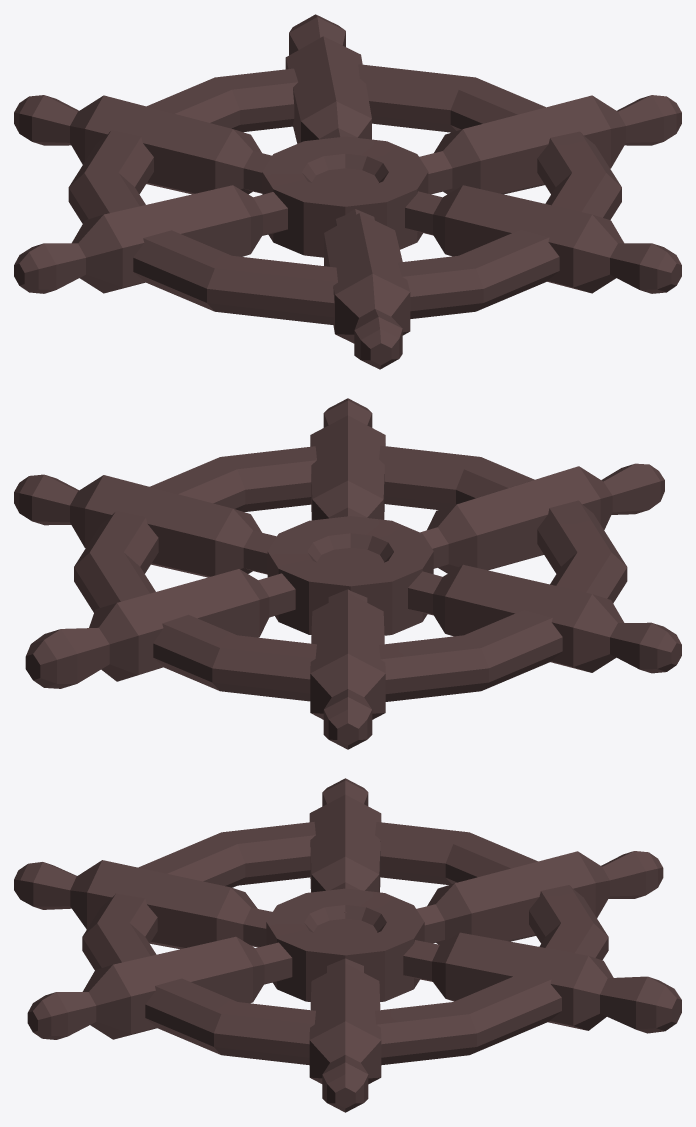
Rendered from prop_41.FBX.
3 renders of one model, top to bottom at view 1: azimuth 30°, elevation 25°; view 2: azimuth 150°, elevation 25°; view 3: azimuth 270°, elevation 25°, orthographic. The views are drawn at different scales.
Parts seen in each view (by area): view 1: prop_41; view 2: prop_41; view 3: prop_41.
Boxes of the visible parts, x1,y1,x2,y2 form: prop_41: (14,14,681,369); prop_41: (14,398,681,749); prop_41: (14,778,681,1112).
Size of the model in its own units: 101 by 11.55 by 93.04.
